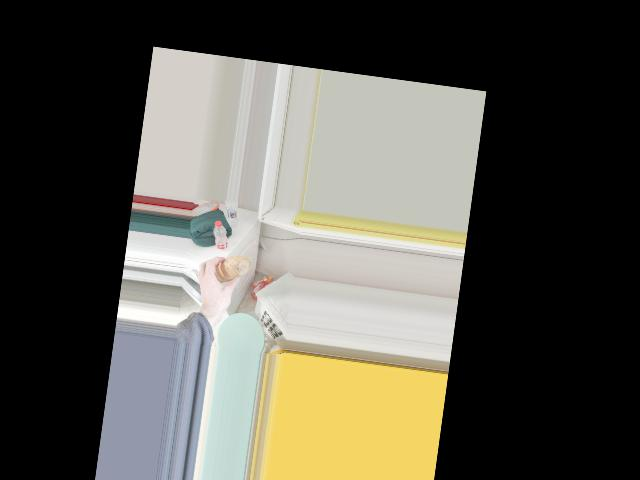sweet_potato: (211, 251, 245, 285)
